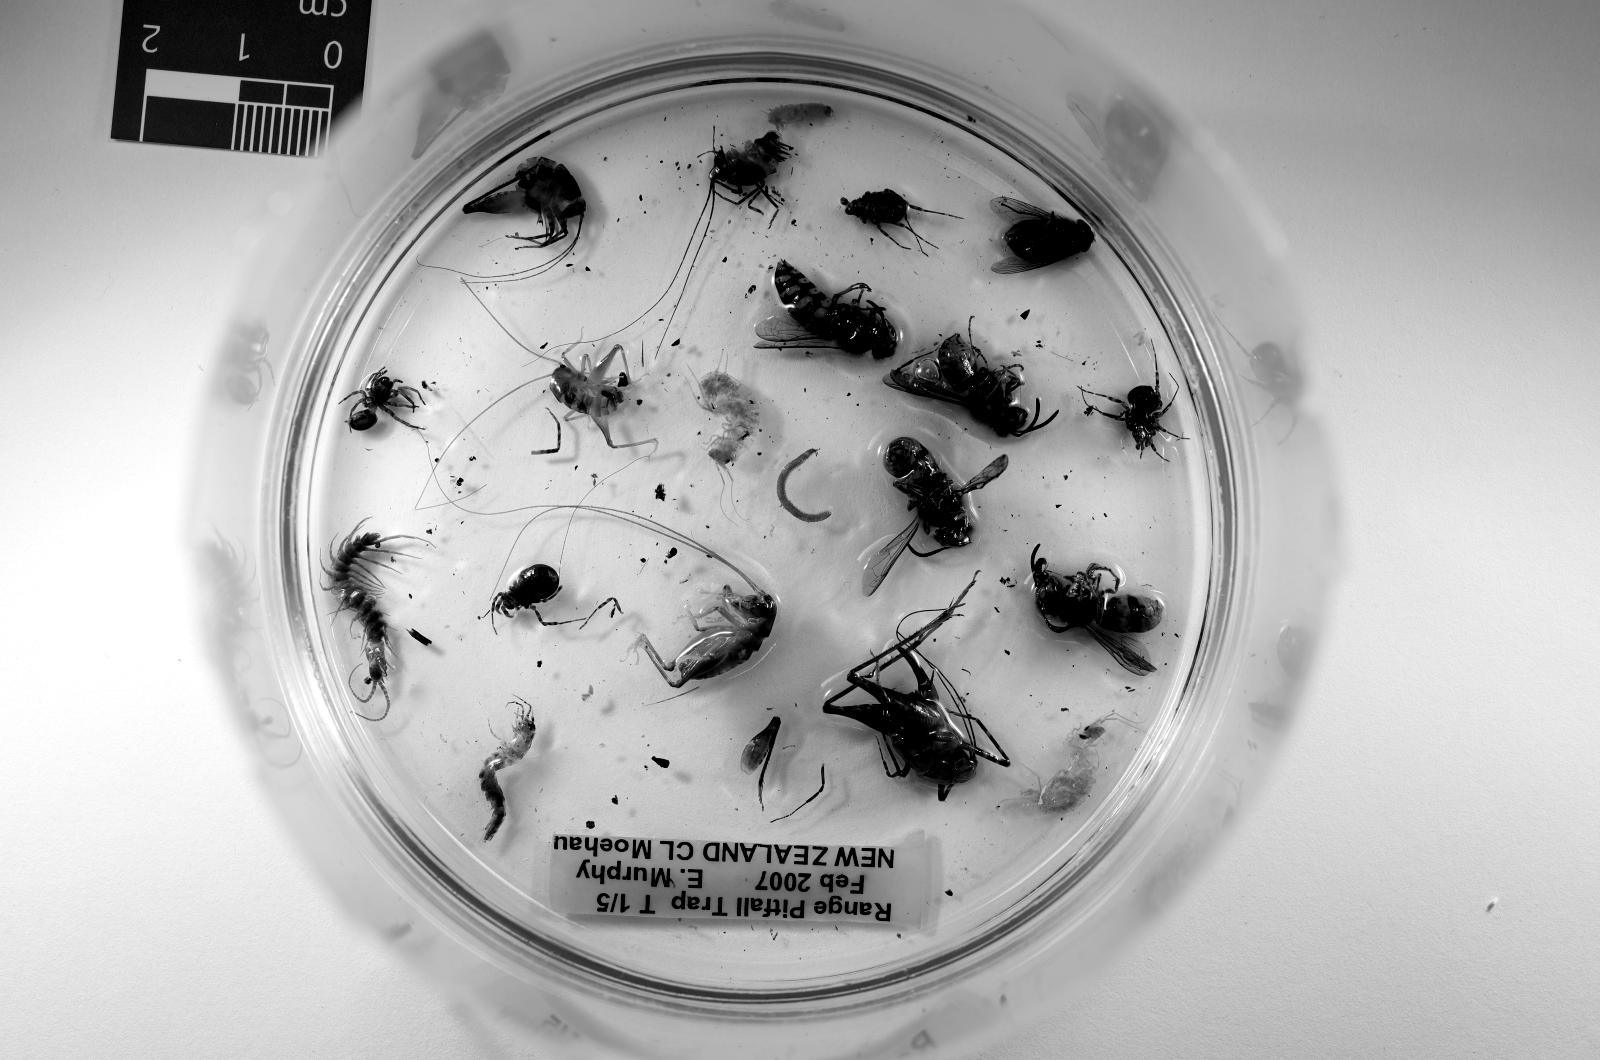amphipoda: (1025, 715, 1113, 814), (697, 369, 759, 478)
araneae: (346, 369, 422, 432)
chilopoda: (325, 522, 422, 720), (478, 699, 535, 841)
diplopoda: (775, 451, 831, 522)
diptera: (991, 195, 1094, 273)
opiliones: (1100, 363, 1172, 453), (841, 189, 944, 243), (487, 565, 572, 627)
orthoptera: (822, 584, 1010, 801), (631, 571, 778, 690), (550, 344, 662, 447), (462, 159, 584, 245), (704, 130, 793, 218)
vespidae: (862, 438, 1006, 596), (885, 319, 1056, 438), (1031, 550, 1162, 677), (757, 260, 896, 357)
